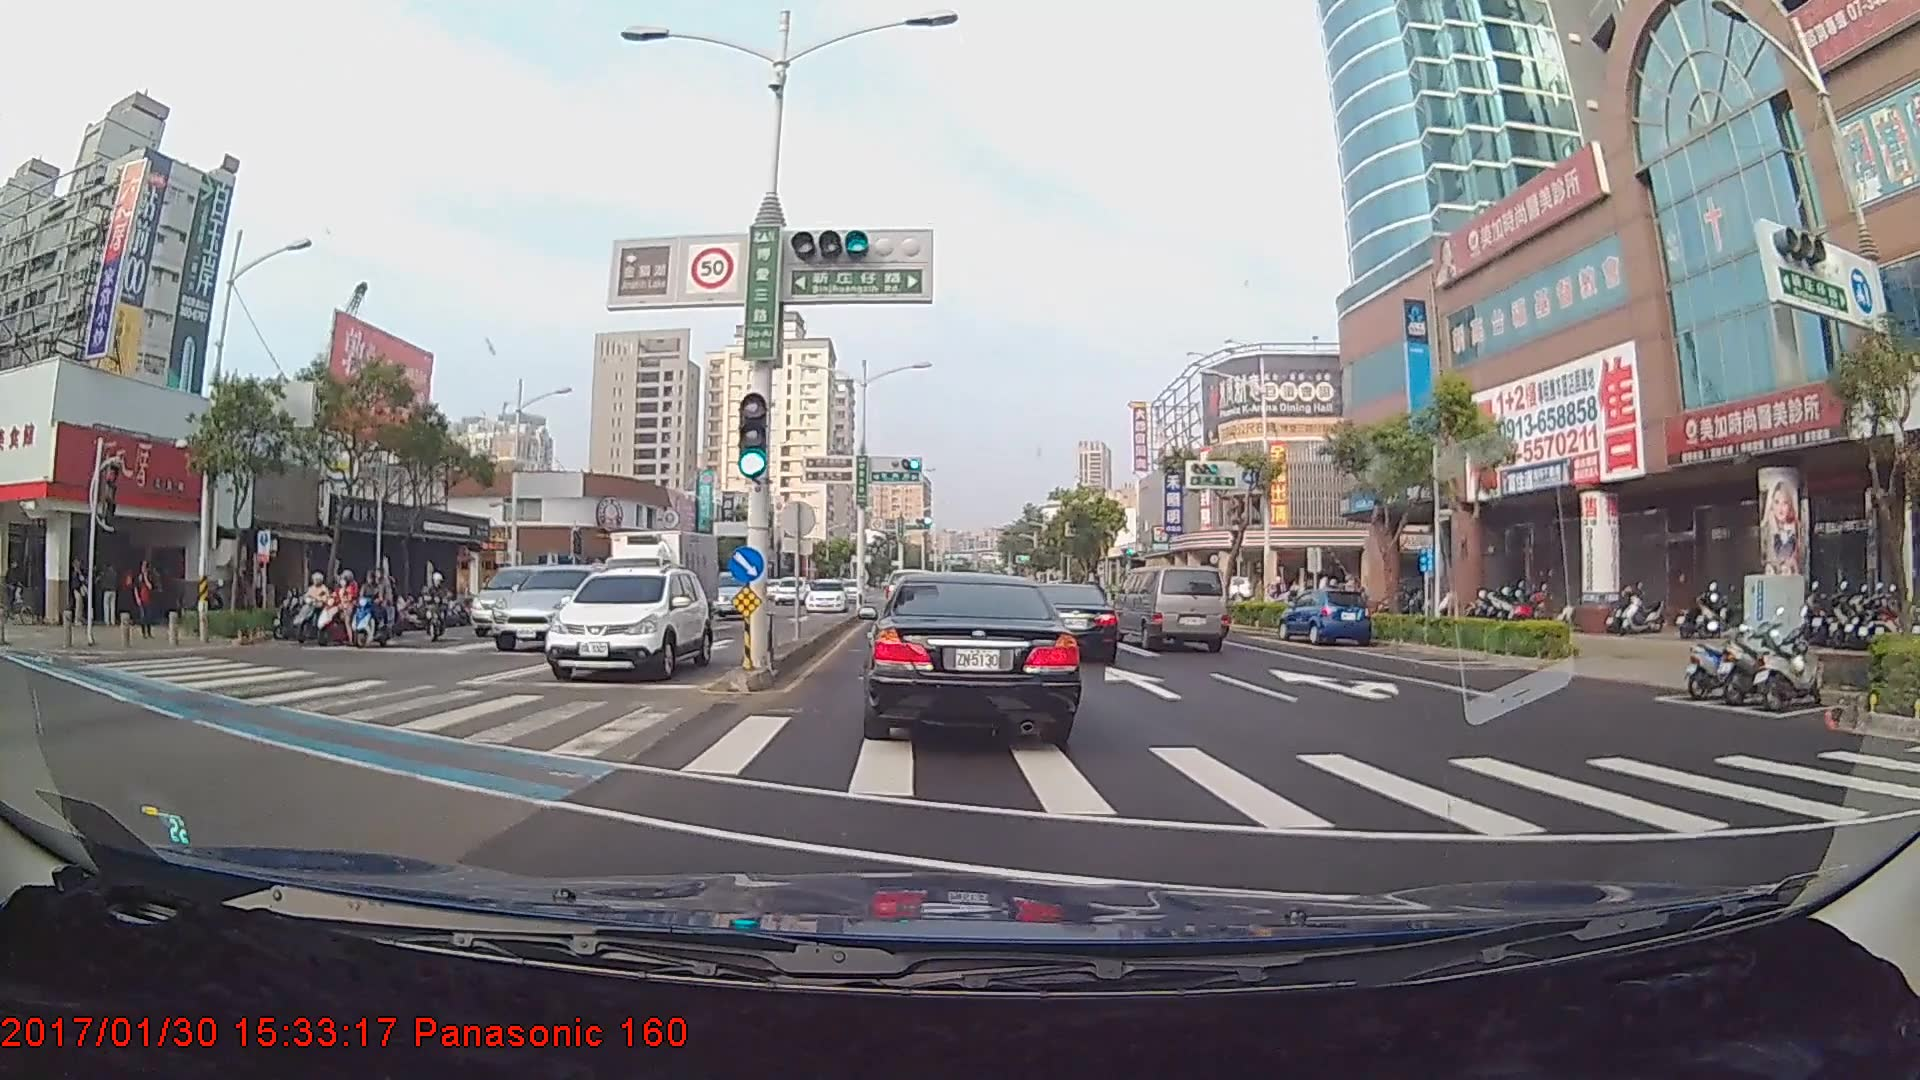pedestrian: (136, 559, 159, 641), (70, 556, 95, 629), (99, 558, 123, 629)
rider: (343, 564, 407, 653), (306, 568, 373, 649), (274, 565, 339, 639), (1, 561, 42, 630)
vehicle: (864, 567, 1079, 743), (547, 564, 711, 680), (590, 517, 728, 643), (486, 559, 610, 647), (1120, 562, 1230, 652), (1016, 586, 1117, 668), (1280, 587, 1373, 647), (709, 566, 773, 617), (803, 577, 843, 607), (775, 577, 800, 606)
